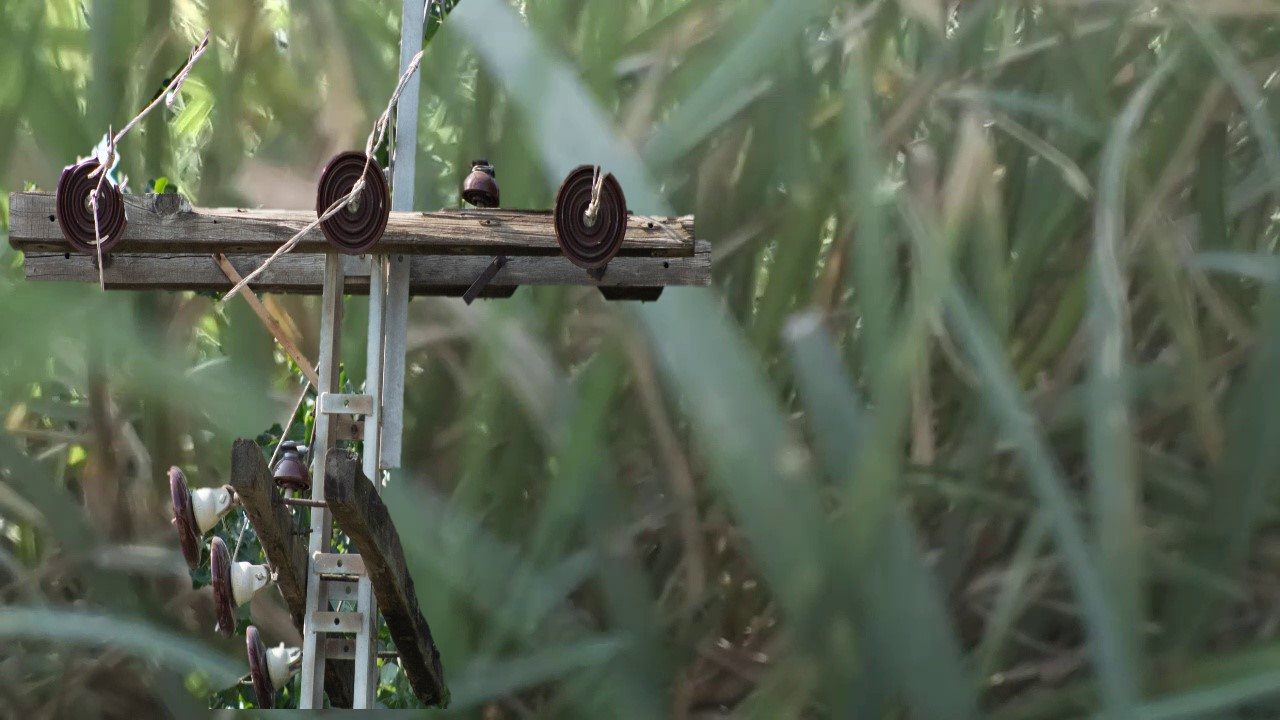defect_disc: (54, 154, 132, 257)
insulator_disc: (552, 157, 636, 279), (315, 144, 397, 254), (196, 530, 252, 630), (165, 459, 213, 571), (233, 611, 292, 700)
insulator_pin: (459, 150, 504, 209), (271, 439, 315, 493)
